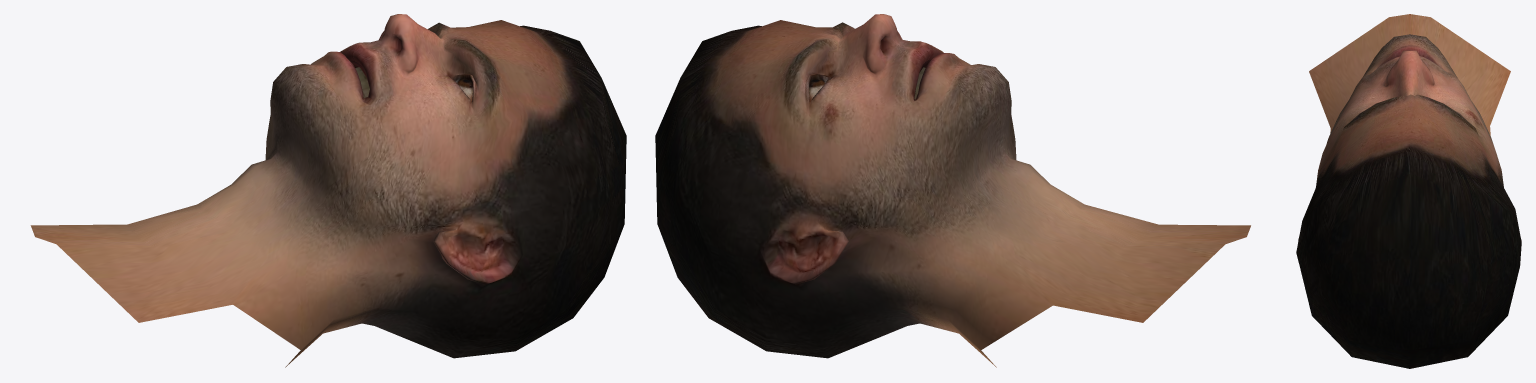
The model's file is head_us_ranger_wolf_low.glb.
3 renders of one model, left to right at view 1: azimuth 30°, elevation 25°; view 2: azimuth 150°, elevation 25°; view 3: azimuth 270°, elevation 25°, orthographic. The views are drawn at different scales.
Bounding box in the file's own units: 17.97 × 10.34 × 7.57.
1 material, 1 textured.
